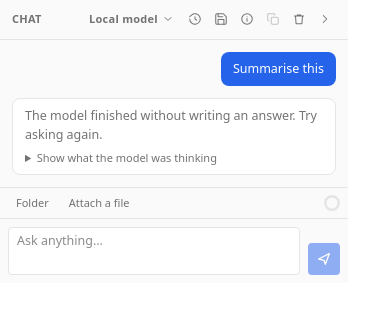
Scenario: ChatPanel: a reply with no answer › keeps the thinking behind a disclosure rather than in the thread
The image size is (365, 310).
Click the heading "Show what the model was thinking": click(127, 157) x1=37 y1=150 x2=217 y2=165
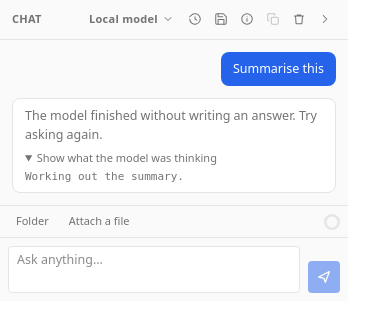
Now the text "Working out the summary." is shown, box x1=25 y1=170 x2=184 y2=183
